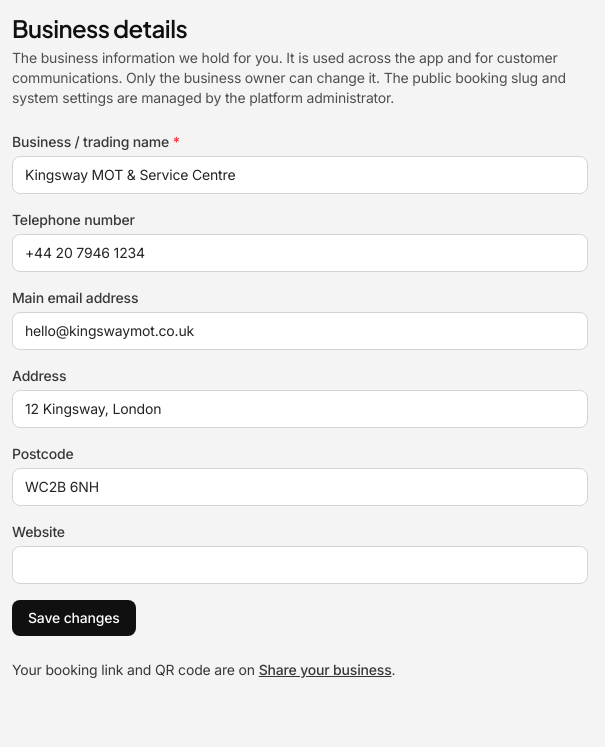
Scenario: GarageDetails › sends only the changed fields and confirms the save
The width and height of the screenshot is (605, 747).
Replace the text in the field labelled "Telephone number" with "+44 20 0000 0000": (300, 253) [12,234,588,272]
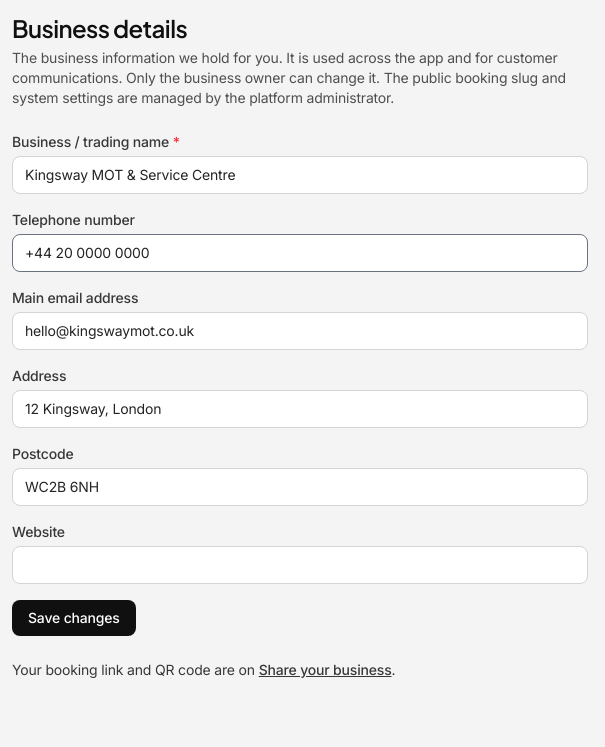
Click the button "Save changes": click(74, 618) [12,600,136,636]
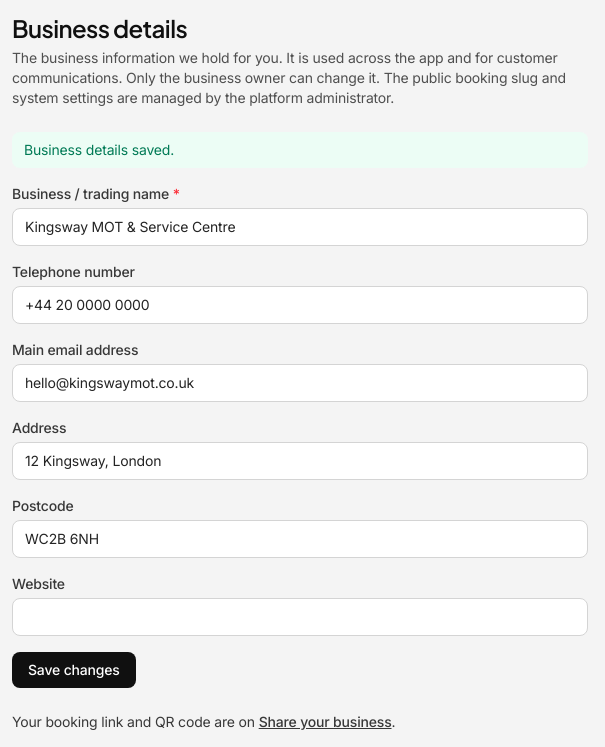
Expected: the text "Business details saved." is shown, [12,132,588,168]
